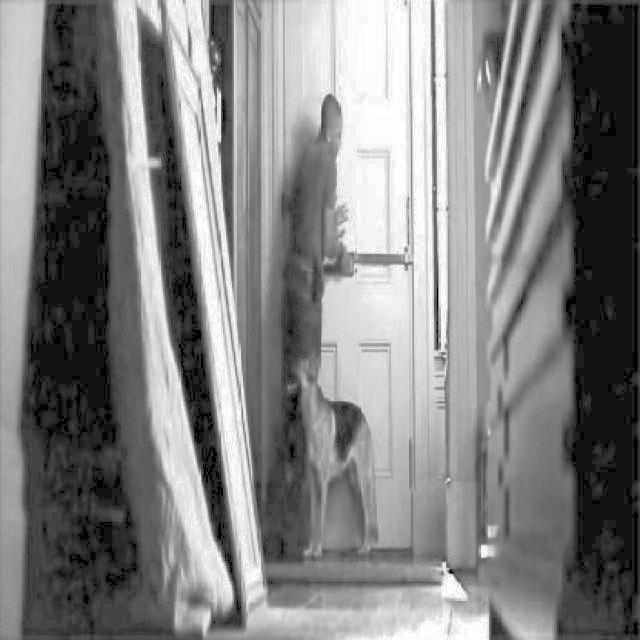Dog: (288, 349, 379, 563)
Person: (266, 87, 352, 556)
